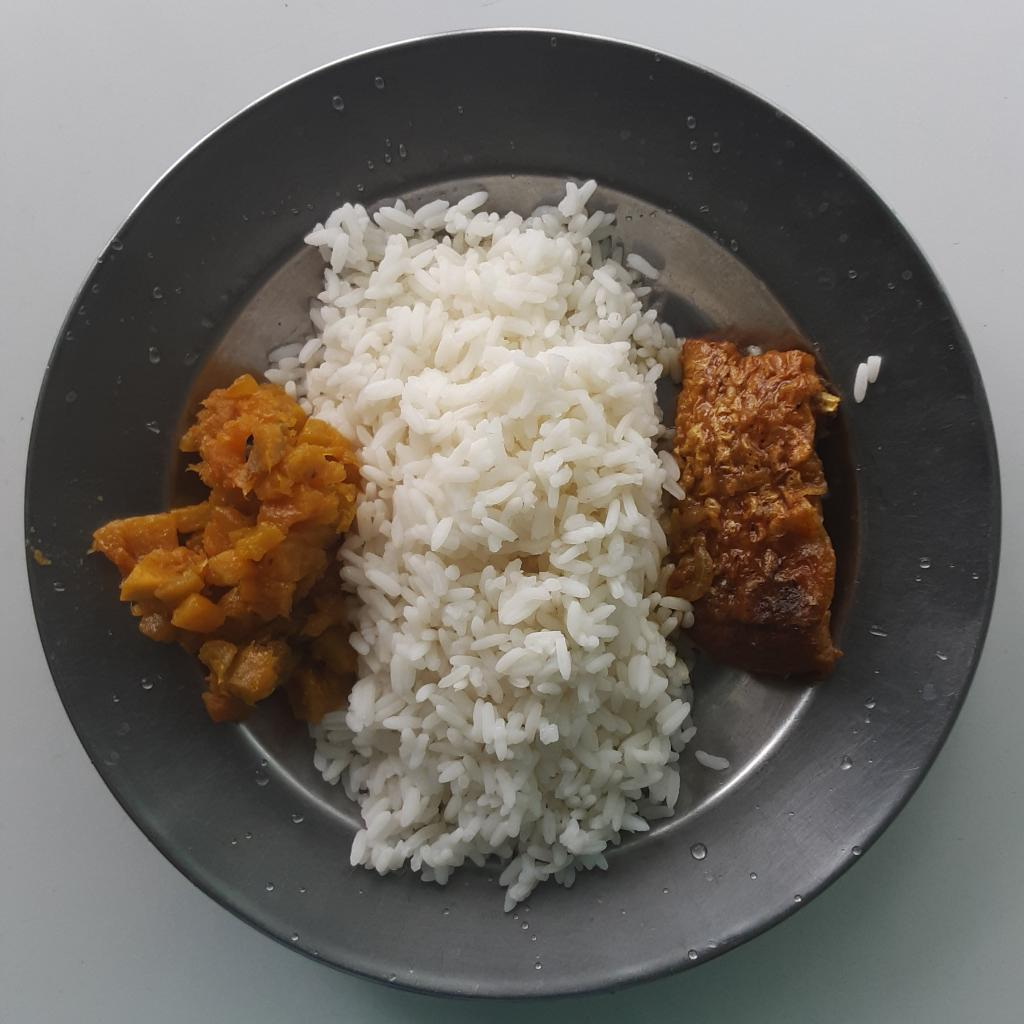fish: (664, 337, 840, 677)
kumra-vaji: (88, 376, 365, 722)
rice: (264, 178, 729, 906), (850, 351, 880, 407)
